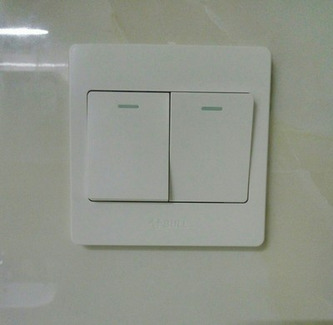switch: (83, 84, 173, 209), (167, 89, 256, 207)
